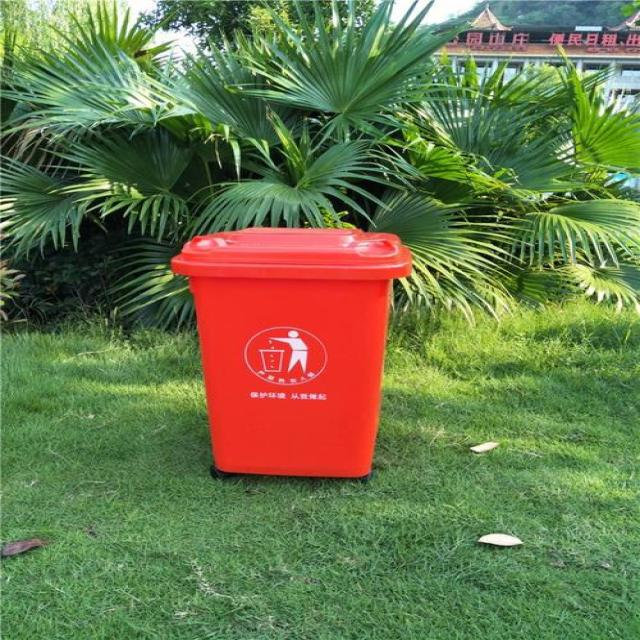garbage_bin: (168, 226, 410, 475)
